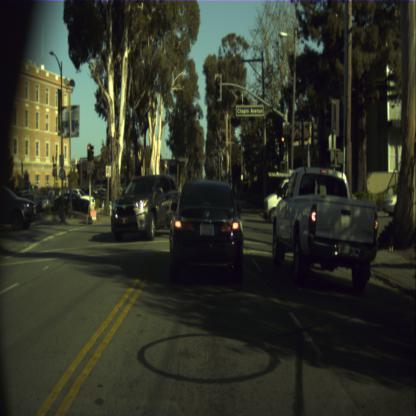Red: (280, 135, 284, 152), (216, 76, 219, 98), (86, 144, 90, 160)
